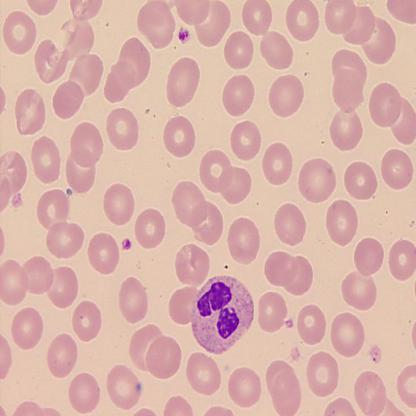Segmented neutrophil: (190, 272, 256, 357)
